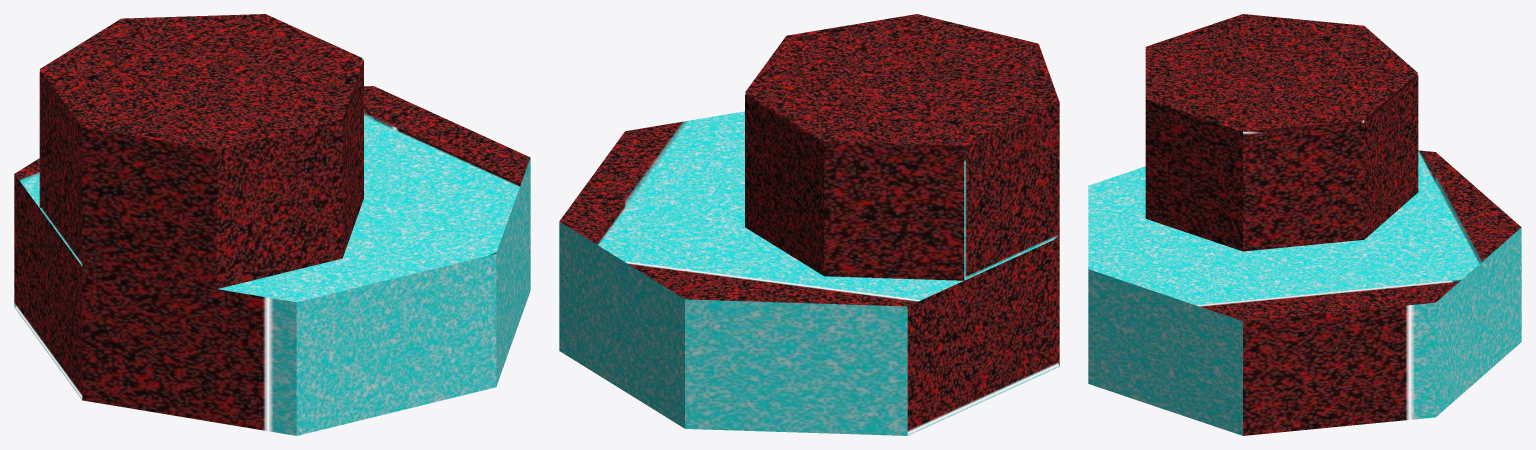
The picture shows the model from 3 angles, left to right: view 1: azimuth 30°, elevation 25°; view 2: azimuth 150°, elevation 25°; view 3: azimuth 270°, elevation 25°; orthographic projection. The views are drawn at different scales.
Visible parts, largest first — view 1: SM_Rock_Jumpable_LOD0; view 2: SM_Rock_Jumpable_LOD0; view 3: SM_Rock_Jumpable_LOD0.
Boxes of the visible parts, bbox=[...] form: SM_Rock_Jumpable_LOD0: bbox=[14, 14, 530, 435]; SM_Rock_Jumpable_LOD0: bbox=[559, 14, 1059, 435]; SM_Rock_Jumpable_LOD0: bbox=[1088, 14, 1521, 435].
Size of the model in its own units: 3.03 by 1.76 by 2.95.
Materials: 1 (1 with a texture image).
